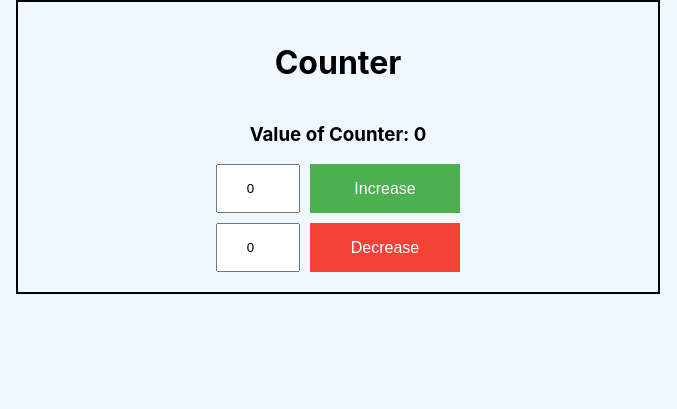
Test: Testing My Counter App › Increase Counter › should increase counter multiple times
The image size is (677, 409).
Type "10" into the number field with test id "value_inc".
click(258, 189); type("10")  # box [216, 164, 300, 213]
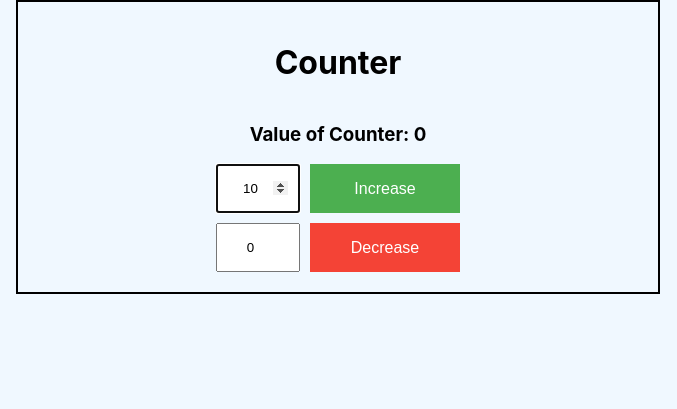
Click the button "Increase".
click(385, 189)  # box [310, 164, 460, 213]
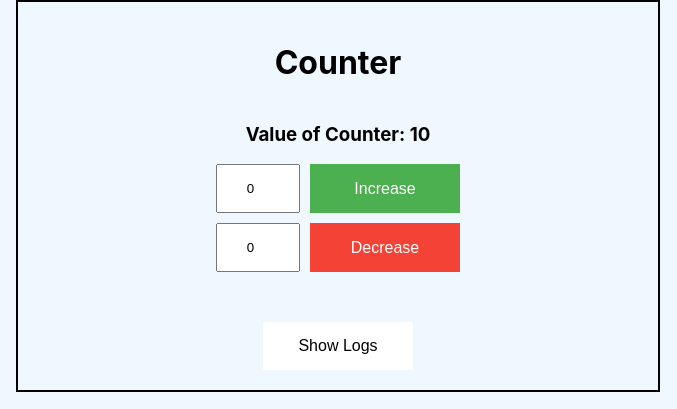
Expected: the heading with test id "counter-value" reads "Value of Counter: 10", [246, 123, 431, 146]
Type "25" into the number field with test id "value_inc".
click(258, 189); type("25")  # box [216, 164, 300, 213]
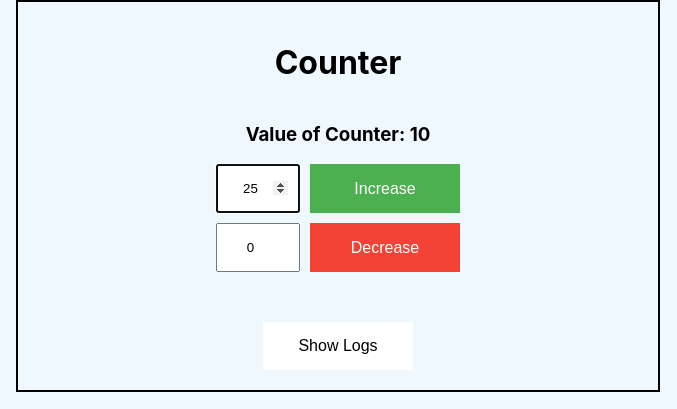
Click the button "Increase".
click(385, 189)  # box [310, 164, 460, 213]
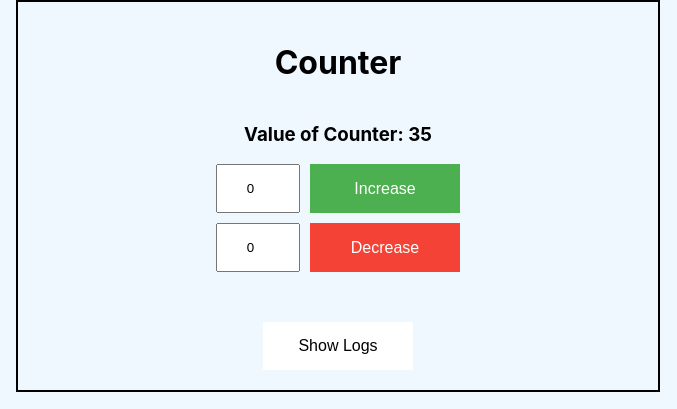
Expected: the heading with test id "counter-value" reads "Value of Counter: 35", [244, 123, 432, 146]
